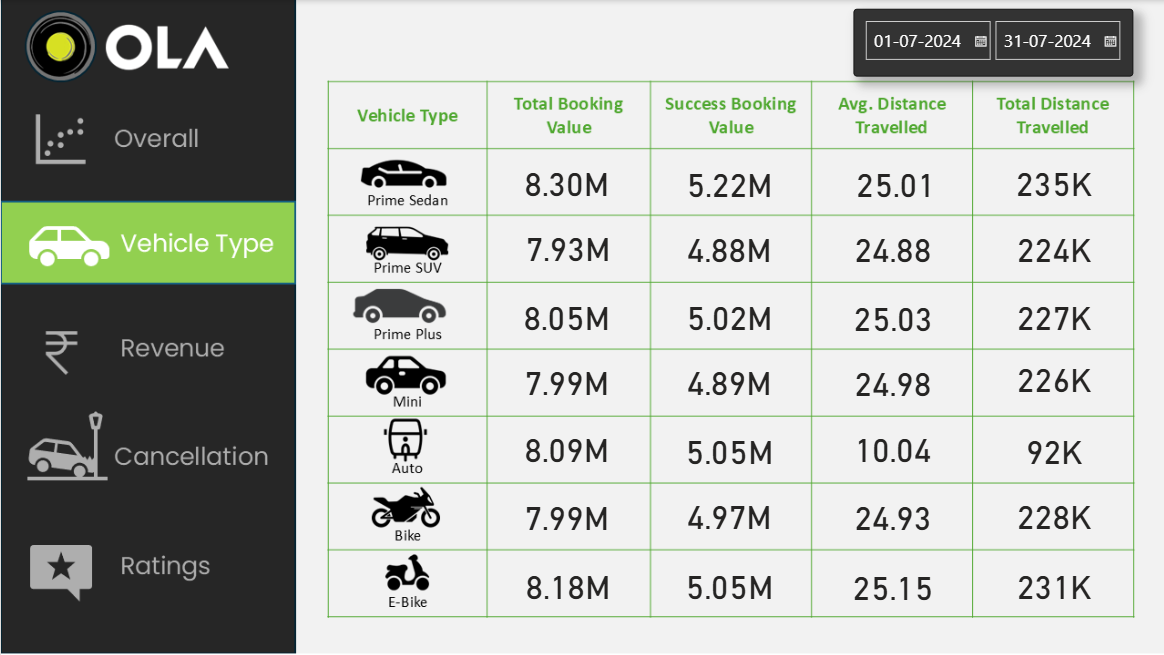

The dashboard page shown, as its layout file describes it:
{"tool":"powerbi","page":{"name":"Vehicle Type","canvas":[1280,720],"ordinal":1},"visuals":[{"type":"actionButton","box":[0,340,323.8,93.8],"z":0},{"type":"actionButton","box":[0,112.5,323.8,93.8],"z":1000},{"type":"actionButton","box":[0,447.5,323.8,93.8],"z":2000},{"type":"actionButton","box":[0,577.5,323.8,93.8],"z":3000},{"type":"card","fields":{"Values":["Sum(July.Booking_Value)"]},"box":[542.9,171.4,155.7,55.7],"z":4000},{"type":"card","fields":{"Values":["Sum(July.Booking_Value)"]},"box":[542.9,464.3,155.7,55.7],"z":5000},{"type":"card","fields":{"Values":["Sum(July.Booking_Value)"]},"box":[542.9,538.6,155.7,55.7],"z":6000},{"type":"card","fields":{"Values":["Sum(July.Booking_Value)"]},"box":[544.3,612.9,155.7,55.7],"z":7000},{"type":"card","fields":{"Values":["Sum(July.Booking_Value)"]},"box":[542.9,390,155.7,55.7],"z":8000},{"type":"card","fields":{"Values":["Sum(July.Booking_Value)"]},"box":[542.9,318.6,155.7,55.7],"z":9000},{"type":"card","fields":{"Values":["Sum(July.Booking_Value)"]},"box":[544.3,242.9,155.7,55.7],"z":10000},{"type":"card","fields":{"Values":["Sum(July.Booking_Value)"]},"box":[721.4,172.9,155.7,55.7],"z":11000},{"type":"card","fields":{"Values":["Sum(July.Booking_Value)"]},"box":[721.4,390,155.7,55.7],"z":12000},{"type":"card","fields":{"Values":["Sum(July.Booking_Value)"]},"box":[721.4,465.7,155.7,55.7],"z":13000},{"type":"card","fields":{"Values":["Sum(July.Booking_Value)"]},"box":[721.4,537.1,155.7,55.7],"z":14000},{"type":"card","fields":{"Values":["Sum(July.Booking_Value)"]},"box":[721.4,612.9,155.7,55.7],"z":15000},{"type":"card","fields":{"Values":["Sum(July.Booking_Value)"]},"box":[721.4,244.3,155.7,55.7],"z":16000},{"type":"card","fields":{"Values":["Sum(July.Booking_Value)"]},"box":[721.4,318.6,155.7,55.7],"z":17000},{"type":"card","fields":{"Values":["Avg(July.Ride_Distance)"]},"box":[904.3,172.9,155.7,55.7],"z":18000},{"type":"card","fields":{"Values":["Avg(July.Ride_Distance)"]},"box":[901.4,464.3,155.7,55.7],"z":19000},{"type":"card","fields":{"Values":["Avg(July.Ride_Distance)"]},"box":[901.4,538.6,155.7,55.7],"z":20000},{"type":"card","fields":{"Values":["Avg(July.Ride_Distance)"]},"box":[901.4,614.3,155.7,55.7],"z":21000},{"type":"card","fields":{"Values":["Avg(July.Ride_Distance)"]},"box":[901.4,391.4,155.7,55.7],"z":22000},{"type":"card","fields":{"Values":["Avg(July.Ride_Distance)"]},"box":[901.4,320,155.7,55.7],"z":23000},{"type":"card","fields":{"Values":["Avg(July.Ride_Distance)"]},"box":[901.4,244.3,155.7,55.7],"z":24000},{"type":"card","fields":{"Values":["Sum(July.Ride_Distance)"]},"box":[1078.6,171.4,155.7,55.7],"z":25000},{"type":"card","fields":{"Values":["Sum(July.Ride_Distance)"]},"box":[1078.6,244.3,155.7,55.7],"z":26000},{"type":"card","fields":{"Values":["Sum(July.Ride_Distance)"]},"box":[1078.6,318.6,155.7,55.7],"z":27000},{"type":"card","fields":{"Values":["Sum(July.Ride_Distance)"]},"box":[1078.6,387.1,155.7,55.7],"z":28000},{"type":"card","fields":{"Values":["Sum(July.Ride_Distance)"]},"box":[1078.6,465.7,155.7,55.7],"z":29000},{"type":"card","fields":{"Values":["Sum(July.Ride_Distance)"]},"box":[1078.6,537.1,155.7,55.7],"z":30000},{"type":"card","fields":{"Values":["Sum(July.Ride_Distance)"]},"box":[1078.6,612.9,155.7,55.7],"z":31000},{"type":"slicer","title":"Date","fields":{"Values":["July.Date"]},"box":[935.7,10,307.1,74.3],"z":32000}]}

Visuals, with their boxes on the page's 1280x720 design canvas (x1, y1, x2, y2). These are canvas units, not pixel positions in the 1164x655 screenshot, which may show the page scaled, cropped or inside an application window:
actionButton: pyautogui.locateOnScreen(0, 340, 324, 434)
actionButton: pyautogui.locateOnScreen(0, 112, 324, 206)
actionButton: pyautogui.locateOnScreen(0, 448, 324, 541)
actionButton: pyautogui.locateOnScreen(0, 578, 324, 671)
card - Sum(July.Booking_Value): pyautogui.locateOnScreen(543, 171, 699, 227)
card - Sum(July.Booking_Value): pyautogui.locateOnScreen(543, 464, 699, 520)
card - Sum(July.Booking_Value): pyautogui.locateOnScreen(543, 539, 699, 594)
card - Sum(July.Booking_Value): pyautogui.locateOnScreen(544, 613, 700, 669)
card - Sum(July.Booking_Value): pyautogui.locateOnScreen(543, 390, 699, 446)
card - Sum(July.Booking_Value): pyautogui.locateOnScreen(543, 319, 699, 374)
card - Sum(July.Booking_Value): pyautogui.locateOnScreen(544, 243, 700, 299)
card - Sum(July.Booking_Value): pyautogui.locateOnScreen(721, 173, 877, 229)
card - Sum(July.Booking_Value): pyautogui.locateOnScreen(721, 390, 877, 446)
card - Sum(July.Booking_Value): pyautogui.locateOnScreen(721, 466, 877, 521)
card - Sum(July.Booking_Value): pyautogui.locateOnScreen(721, 537, 877, 593)
card - Sum(July.Booking_Value): pyautogui.locateOnScreen(721, 613, 877, 669)
card - Sum(July.Booking_Value): pyautogui.locateOnScreen(721, 244, 877, 300)
card - Sum(July.Booking_Value): pyautogui.locateOnScreen(721, 319, 877, 374)
card - Avg(July.Ride_Distance): pyautogui.locateOnScreen(904, 173, 1060, 229)
card - Avg(July.Ride_Distance): pyautogui.locateOnScreen(901, 464, 1057, 520)
card - Avg(July.Ride_Distance): pyautogui.locateOnScreen(901, 539, 1057, 594)
card - Avg(July.Ride_Distance): pyautogui.locateOnScreen(901, 614, 1057, 670)
card - Avg(July.Ride_Distance): pyautogui.locateOnScreen(901, 391, 1057, 447)
card - Avg(July.Ride_Distance): pyautogui.locateOnScreen(901, 320, 1057, 376)
card - Avg(July.Ride_Distance): pyautogui.locateOnScreen(901, 244, 1057, 300)
card - Sum(July.Ride_Distance): pyautogui.locateOnScreen(1079, 171, 1234, 227)
card - Sum(July.Ride_Distance): pyautogui.locateOnScreen(1079, 244, 1234, 300)
card - Sum(July.Ride_Distance): pyautogui.locateOnScreen(1079, 319, 1234, 374)
card - Sum(July.Ride_Distance): pyautogui.locateOnScreen(1079, 387, 1234, 443)
card - Sum(July.Ride_Distance): pyautogui.locateOnScreen(1079, 466, 1234, 521)
card - Sum(July.Ride_Distance): pyautogui.locateOnScreen(1079, 537, 1234, 593)
card - Sum(July.Ride_Distance): pyautogui.locateOnScreen(1079, 613, 1234, 669)
"Date" slicer: pyautogui.locateOnScreen(936, 10, 1243, 84)
